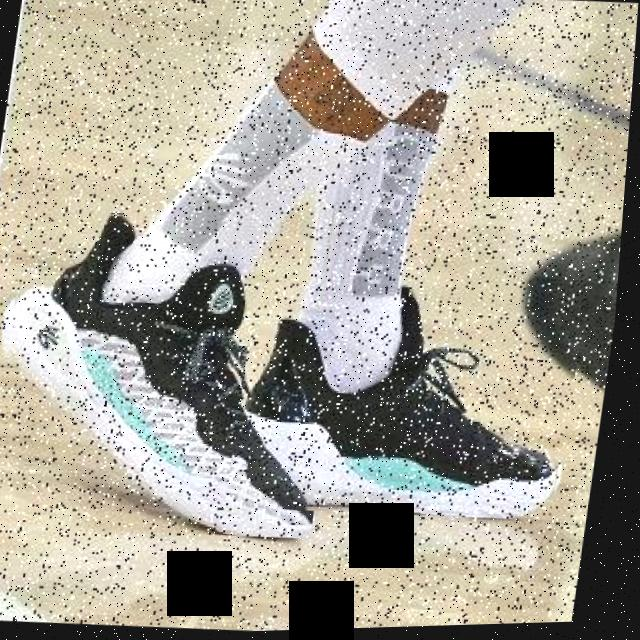shoe: (0, 199, 360, 549), (231, 275, 595, 532)
